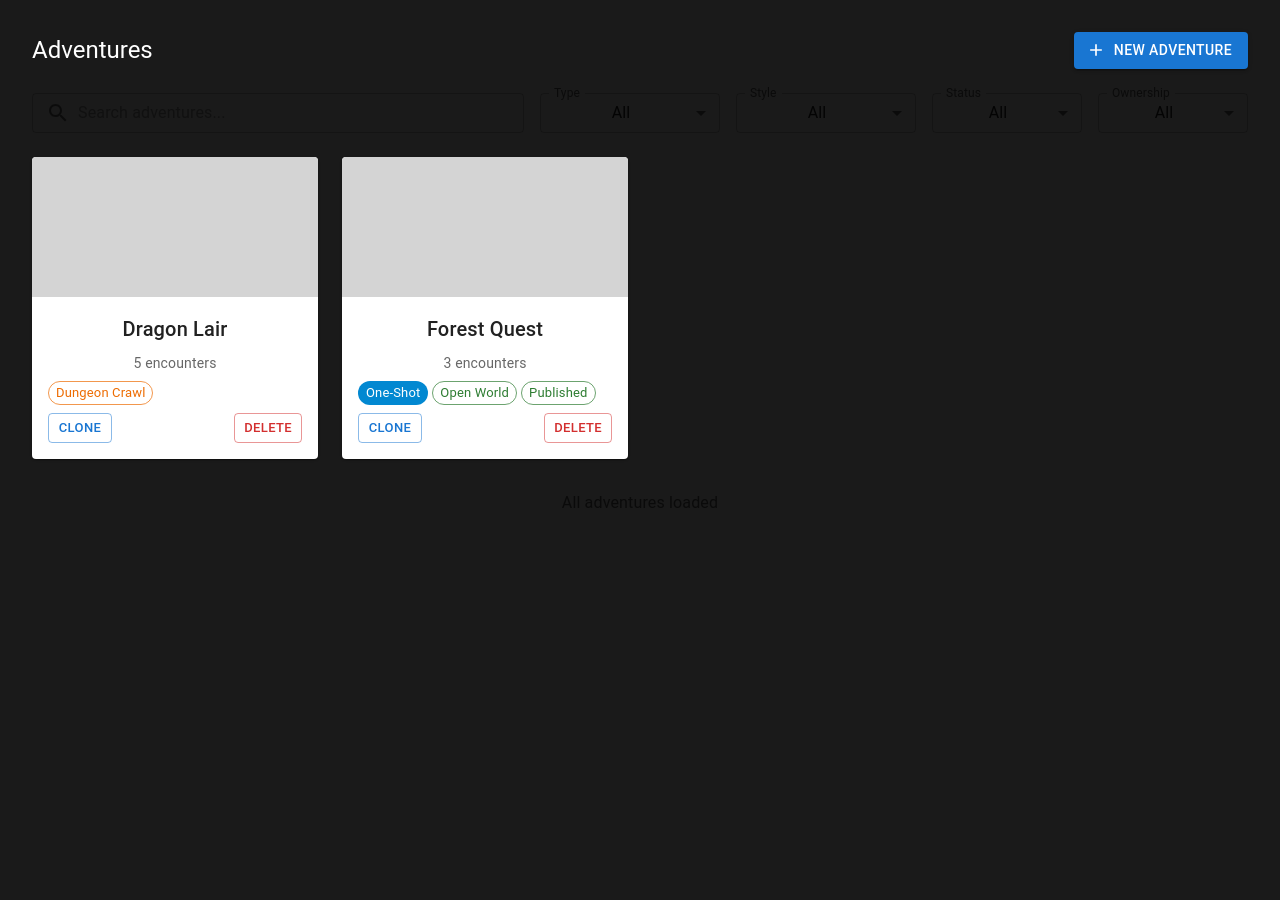
Test: AdventureListView › create flow › should show error snackbar on create failure
Click the button with aria-label "create new adventure".
click(1161, 50)  # box top-left (1074, 32), bottom-right (1248, 68)
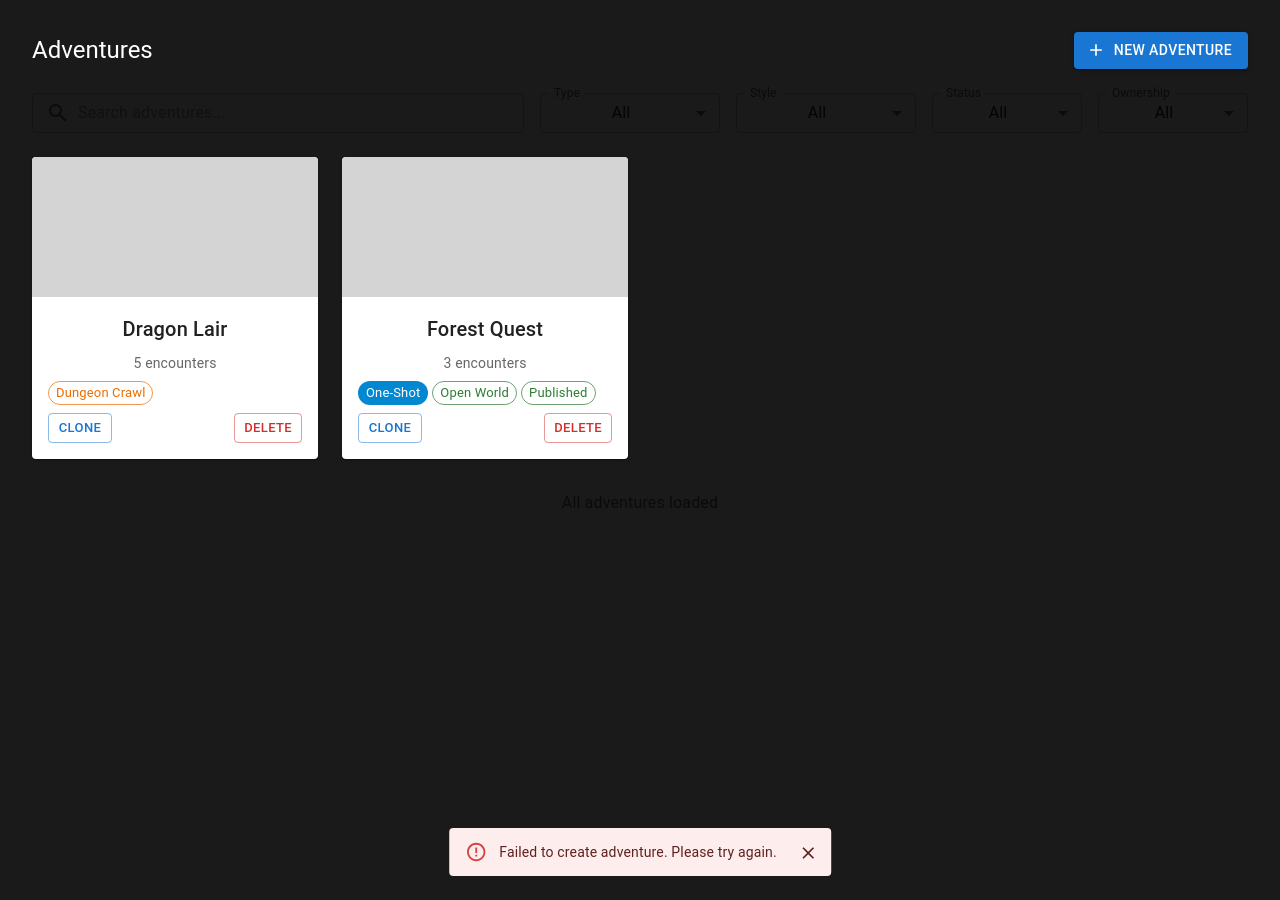
Expected: the text "Failed to create adventure. Please try again." is shown, top-left (499, 844), bottom-right (777, 860)
